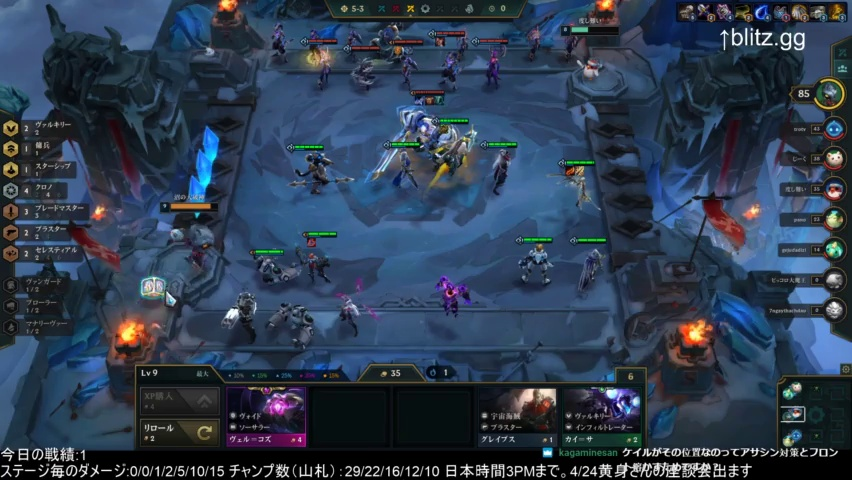:redemption: (128, 239, 187, 323)
blitzcrank: (249, 243, 292, 297)
kaisa:solari,morello: (387, 37, 429, 98)
khazix*2: (342, 41, 383, 99)
shaco*2:zeke: (428, 27, 469, 94)
xerath: (428, 272, 477, 345)
